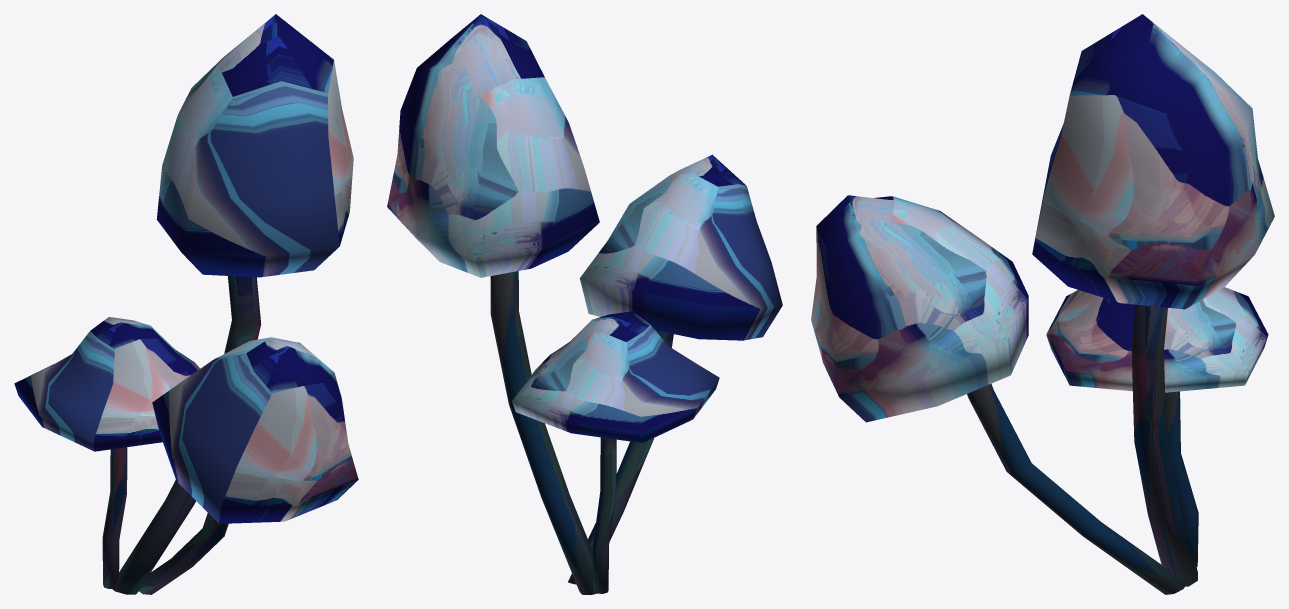
The model's file is mushroom_VAR2.fbx.
The picture shows the model from 3 angles, left to right: view 1: azimuth 30°, elevation 25°; view 2: azimuth 150°, elevation 25°; view 3: azimuth 270°, elevation 25°; orthographic projection. The views are drawn at different scales.
Visible parts, largest first — view 1: Cube, Cube.001, Cube.002, Cylinder.001, Cylinder.002, Cylinder; view 2: Cube, Cube.001, Cube.002, Cylinder.001, Cylinder.002, Cylinder; view 3: Cube, Cube.001, Cube.002, Cylinder.001, Cylinder, Cylinder.002.
Part boxes in pixels (<box>): Cube: <box>156,14,353,277</box>; Cube.001: <box>152,337,358,523</box>; Cube.002: <box>14,317,200,451</box>; Cylinder.001: <box>112,276,261,594</box>; Cylinder.002: <box>102,447,127,588</box>; Cylinder: <box>139,513,228,594</box>; Cube: <box>387,14,599,277</box>; Cube.001: <box>579,154,782,340</box>; Cube.002: <box>512,311,719,442</box>; Cylinder.001: <box>490,271,596,594</box>; Cylinder.002: <box>592,437,616,593</box>; Cylinder: <box>568,330,673,584</box>; Cube: <box>1032,14,1274,309</box>; Cube.001: <box>811,195,1028,422</box>; Cube.002: <box>1046,287,1268,392</box>; Cylinder.001: <box>1131,304,1197,586</box>; Cylinder: <box>967,384,1186,594</box>; Cylinder.002: <box>1165,391,1198,566</box>.
Size of the model in its own units: 562 by 986 by 645.
